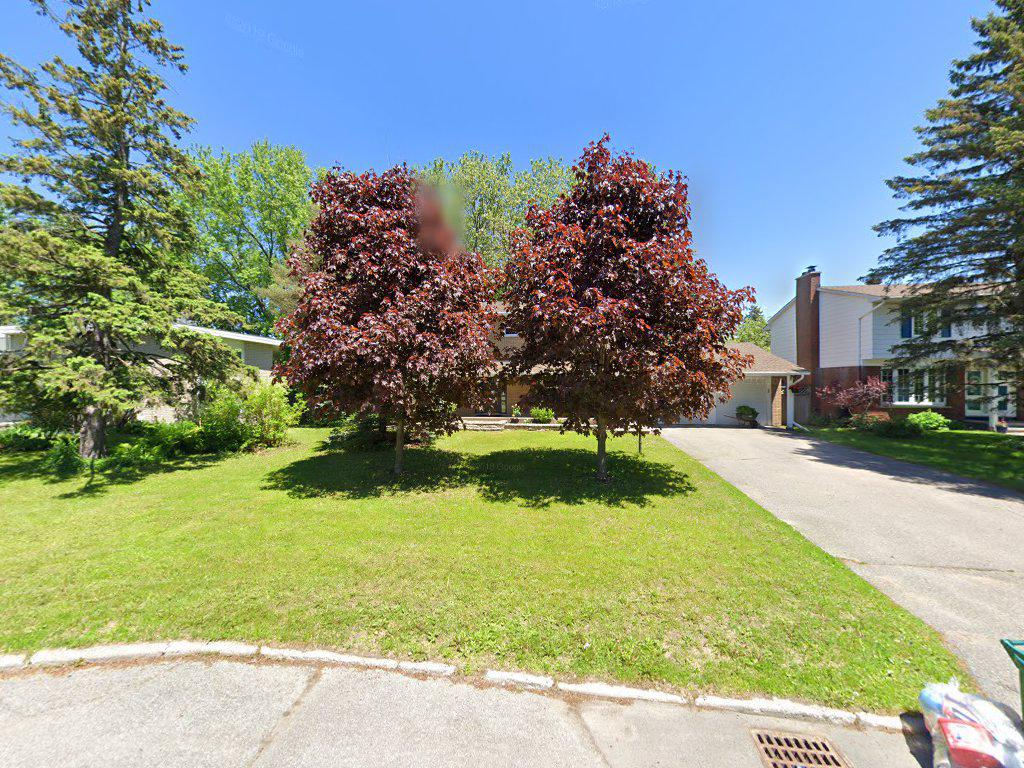trunk: (77, 403, 106, 467), (591, 421, 615, 478), (391, 419, 412, 480)
